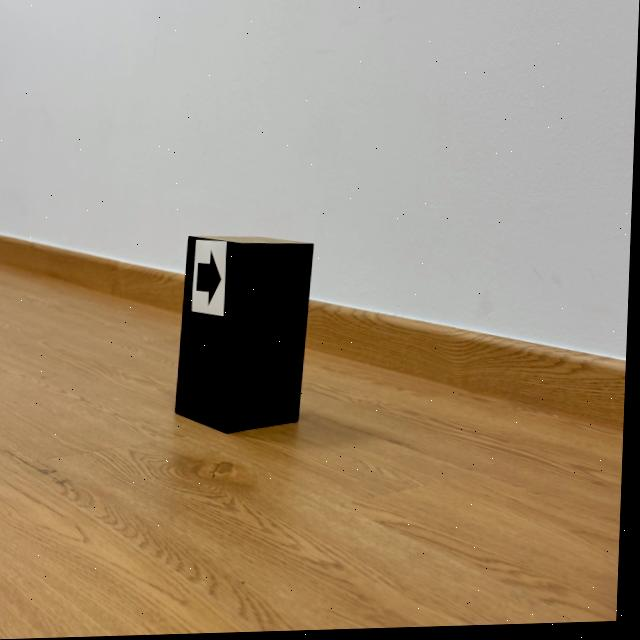RIGHT: (199, 253, 223, 307)
